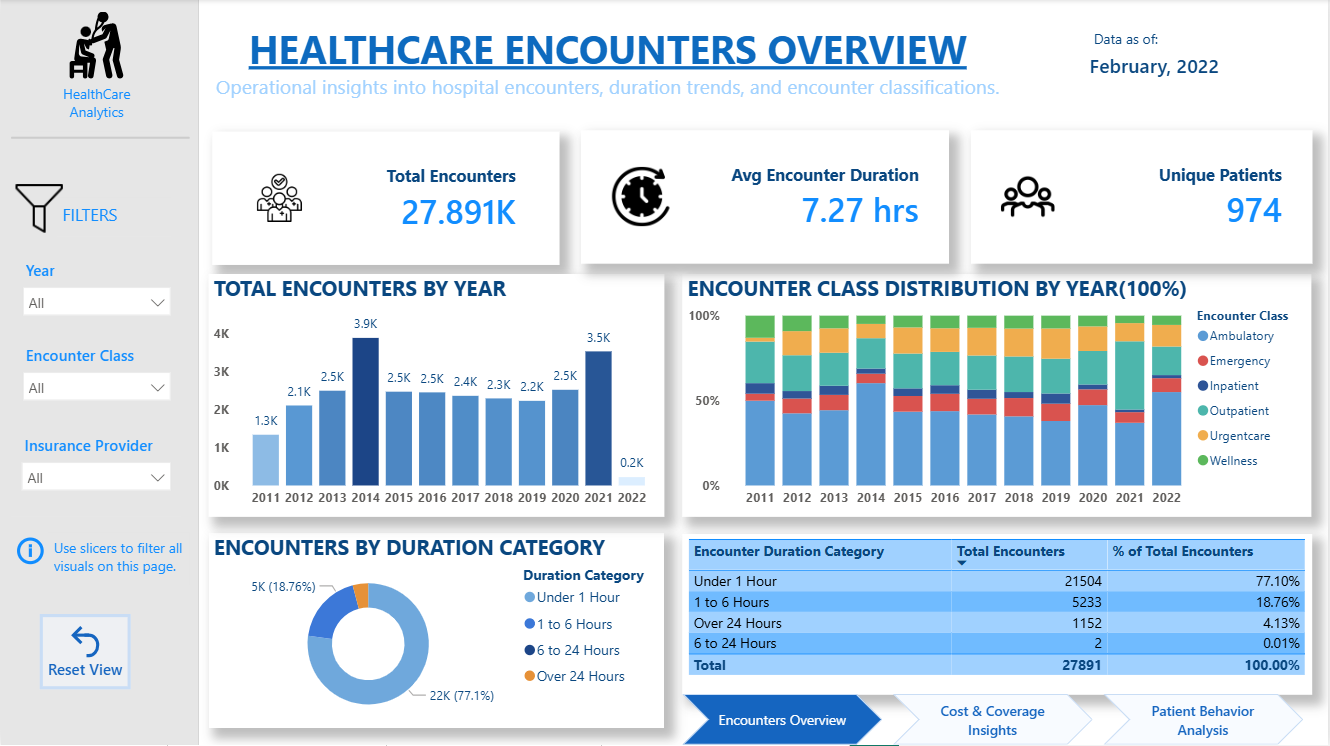

The dashboard page shown, as its layout file describes it:
{"tool":"powerbi","page":{"name":"Encounters Overview","canvas":[1280,720],"ordinal":0},"visuals":[{"type":"shape","title":"Sidebar BackgroundSidebar Background","box":[0,0,190.6,720.2],"z":0,"group":"g1"},{"type":"cardVisual","title":"Total Encounters","fields":{"Data":["Measure.Total Encounters"]},"box":[204.5,127.6,334.8,129],"z":0},{"type":"actionButton","box":[37,594,87.8,72.7],"z":0,"group":"g2"},{"type":"image","box":[25.3,12.1,133.9,65.1],"z":1000,"group":"g1"},{"type":"clusteredColumnChart","title":"TOTAL ENCOUNTERS BY YEAR","fields":{"Category":["Calendar.Year"],"Y":["Measure.Total Encounters"]},"box":[200.5,265.7,439.6,234.3],"z":1000},{"type":"textbox","box":[10.9,77.2,162.9,50.7],"z":2000,"group":"g1"},{"type":"hundredPercentStackedColumnChart","title":"ENCOUNTER CLASS DISTRIBUTION BY YEAR(100%)","fields":{"Category":["Calendar.Year"],"Y":["Measure.Total Encounters"],"Series":["Encounters.ENCOUNTER CLASS(PROPER)"]},"box":[657,265.7,607.5,234.3],"z":2000},{"type":"textbox","box":[54.3,191.8,109.8,37.4],"z":3000,"group":"g1"},{"type":"donutChart","title":"ENCOUNTERS BY DURATION CATEGORY","fields":{"Category":["Encounters.Encounter Duration Category"],"Y":["Measure.Total Encounters"]},"box":[200.5,515.7,439.6,188.4],"z":3000},{"type":"cardVisual","title":"Avg Encounter Duration","fields":{"Data":["Measure.Avg Encounter Duration"]},"box":[559.9,126.2,355.4,129],"z":4000},{"type":"image","box":[10.9,174.9,51.9,54.3],"z":4000,"group":"g1"},{"type":"cardVisual","title":"Unique Patients","fields":{"Data":["Measure.Unique Patients"]},"box":[935.9,126.2,329.3,129],"z":5000},{"type":"slicer","fields":{"Values":["Calendar.Year"]},"box":[10.9,246.1,162.9,65.1],"z":5000,"group":"g1"},{"type":"textbox","title":"Dashboard Title","box":[190.8,0,789.9,102.7],"z":6000},{"type":"shape","box":[9.7,127.9,172.5,12.1],"z":6000,"group":"g1"},{"type":"group","id":"g1","title":"Left Pane Group","box":[0,0,190.6,720.2],"z":7000},{"type":"slicer","fields":{"Values":["Encounters.ENCOUNTER CLASS(PROPER)"]},"box":[10.9,328.2,162.9,65.1],"z":7000,"group":"g1"},{"type":"slicer","fields":{"Values":["Payers.PAYER NAME"]},"box":[9.7,415,164.1,84.5],"z":8000,"group":"g1"},{"type":"tableEx","fields":{"Values":["Encounters.Encounter Duration Category","Measure.Total Encounters","Measure.% of Total Encounters"]},"box":[657.3,516,607.9,155.1],"z":8000},{"type":"cardVisual","title":"Data as of:","fields":{"Data":["Measure.Date_max"]},"box":[997.6,12.3,231.9,101.5],"z":9000},{"type":"actionButton","box":[10.9,515.2,41,35],"z":9000,"group":"g1"},{"type":"textbox","box":[1049.6,24.1,72.4,27.7],"z":10000},{"type":"textbox","box":[45.8,515.2,136.3,50.7],"z":10000,"group":"g1"},{"type":"pageNavigator","box":[657.3,671,599.7,49.4],"z":11000},{"type":"group","id":"g2","title":"Group 1","box":[37,594,87.8,72.7],"z":11001,"group":"g1"}]}

Visuals, with their boxes on the page's 1280x720 design canvas (x1, y1, x2, y2). These are canvas units, not pixel positions in the 1330x746 screenshot, which may show the page scaled, cropped or inside an application window:
"Sidebar BackgroundSidebar Background" shape: 0, 0, 191, 720
"Total Encounters" cardVisual: 204, 128, 539, 257
actionButton: 37, 594, 125, 667
image: 25, 12, 159, 77
"TOTAL ENCOUNTERS BY YEAR" clusteredColumnChart: 200, 266, 640, 500
textbox: 11, 77, 174, 128
"ENCOUNTER CLASS DISTRIBUTION BY YEAR(100%)" hundredPercentStackedColumnChart: 657, 266, 1264, 500
textbox: 54, 192, 164, 229
"ENCOUNTERS BY DURATION CATEGORY" donutChart: 200, 516, 640, 704
"Avg Encounter Duration" cardVisual: 560, 126, 915, 255
image: 11, 175, 63, 229
"Unique Patients" cardVisual: 936, 126, 1265, 255
slicer - Calendar.Year: 11, 246, 174, 311
"Dashboard Title" textbox: 191, 0, 981, 103
shape: 10, 128, 182, 140
"Left Pane Group" group: 0, 0, 191, 720
slicer - Encounters.ENCOUNTER CLASS(PROPER): 11, 328, 174, 393
slicer - Payers.PAYER NAME: 10, 415, 174, 500
tableEx - Encounters.Encounter Duration Category x Measure.Total Encounters: 657, 516, 1265, 671
"Data as of:" cardVisual: 998, 12, 1230, 114
actionButton: 11, 515, 52, 550
textbox: 1050, 24, 1122, 52
textbox: 46, 515, 182, 566
pageNavigator: 657, 671, 1257, 720
"Group 1" group: 37, 594, 125, 667
